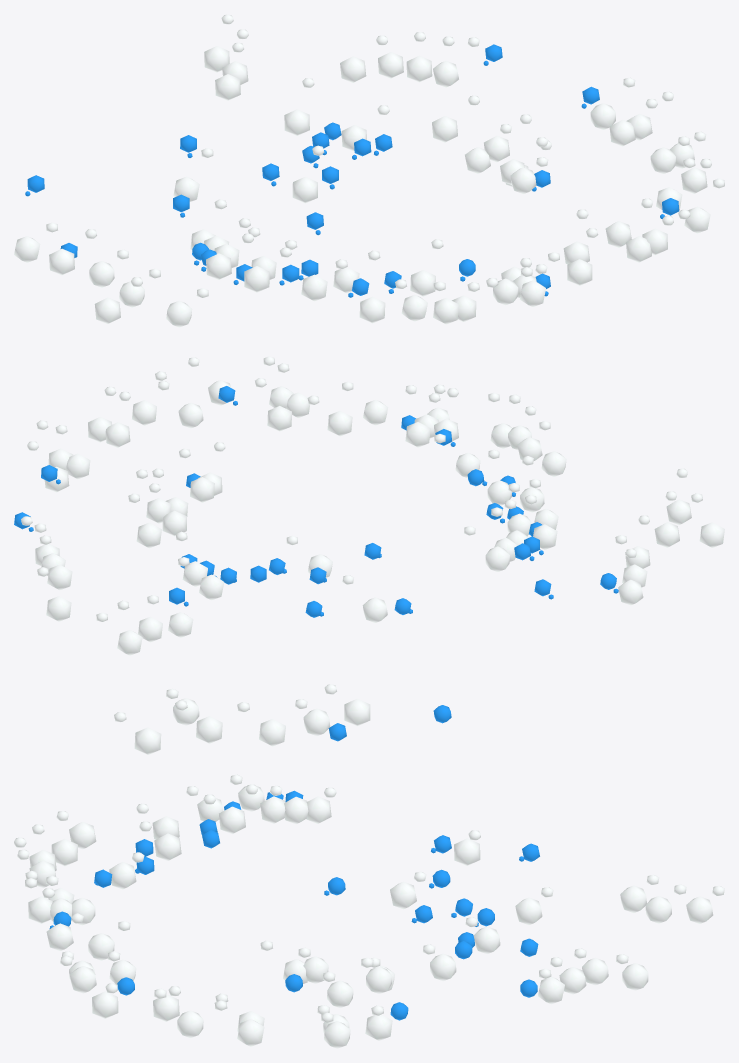
The model's file is model_chunk_2.glb.
The picture shows the model from 3 angles, top to bottom: view 1: azimuth 30°, elevation 25°; view 2: azimuth 150°, elevation 25°; view 3: azimuth 270°, elevation 25°; orthographic projection. The views are drawn at different scales.
Visible parts, largest first — view 1: SplashParticle01511, SplashParticle01345, SplashParticle01513, SplashParticle01496, SplashParticle01536, SplashParticle01365, SplashParticle01652, SplashParticle01357, SplashParticle01373, SplashParticle01653, SplashParticle01024, SplashParticle01639 (+30 smaller); view 2: SplashParticle01438, SplashParticle01565, SplashParticle01632, SplashParticle01595, SplashParticle01540, SplashParticle01601, SplashParticle01644, SplashParticle01024, SplashParticle01454, SplashParticle01639, SplashParticle01327, SplashParticle01516 (+24 smaller); view 3: SplashParticle01679, SplashParticle01469, SplashParticle01579, SplashParticle01327, SplashParticle01338, SplashParticle01683, SplashParticle01369, SplashParticle01595, SplashParticle01337, SplashParticle01644, SplashParticle01692, SplashParticle01516 (+29 smaller).
Part boxes in pixels (<box>): SplashParticle01511: <box>284,78,314,135</box>; SplashParticle01345: <box>49,229,96,275</box>; SplashParticle01513: <box>215,42,243,100</box>; SplashParticle01496: <box>292,145,324,203</box>; SplashParticle01536: <box>567,228,598,285</box>; SplashParticle01365: <box>244,247,291,292</box>; SplashParticle01652: <box>406,36,454,82</box>; SplashParticle01357: <box>206,233,253,279</box>; SplashParticle01373: <box>359,279,406,323</box>; SplashParticle01653: <box>378,32,425,78</box>; SplashParticle01024: <box>94,277,142,323</box>; SplashParticle01639: <box>432,95,479,142</box>; SplashParticle01438: <box>405,393,440,447</box>; SplashParticle01565: <box>255,378,291,431</box>; SplashParticle01632: <box>179,448,214,502</box>; SplashParticle01595: <box>132,371,166,425</box>; SplashParticle01540: <box>307,395,352,436</box>; SplashParticle01601: <box>105,391,130,447</box>; SplashParticle01644: <box>37,567,71,621</box>; SplashParticle01024: <box>691,493,724,547</box>; SplashParticle01454: <box>464,526,509,571</box>; SplashParticle01639: <box>128,493,161,548</box>; SplashParticle01327: <box>654,491,679,547</box>; SplashParticle01516: <box>117,600,162,642</box>; SplashParticle01679: <box>324,684,370,726</box>; SplashParticle01469: <box>454,830,480,865</box>; SplashParticle01579: <box>92,983,118,1018</box>; SplashParticle01327: <box>175,700,222,743</box>; SplashParticle01338: <box>114,712,161,754</box>; SplashParticle01683: <box>139,821,181,860</box>; SplashParticle01369: <box>203,794,245,834</box>; SplashParticle01595: <box>154,988,203,1037</box>; SplashParticle01337: <box>237,702,285,746</box>; SplashParticle01644: <box>616,954,648,990</box>; SplashParticle01692: <box>153,986,180,1021</box>; SplashParticle01516: <box>645,884,686,923</box>.
Size of the model in its own units: 1.13 by 0.141 by 1.04.
Materials: 1 (1 with a texture image).
